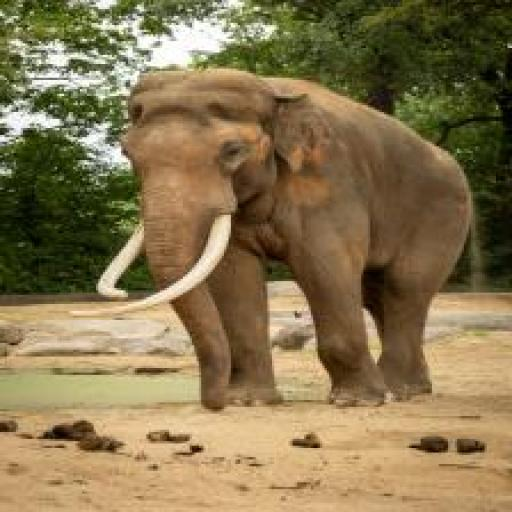Elephant: (73, 66, 472, 413)
